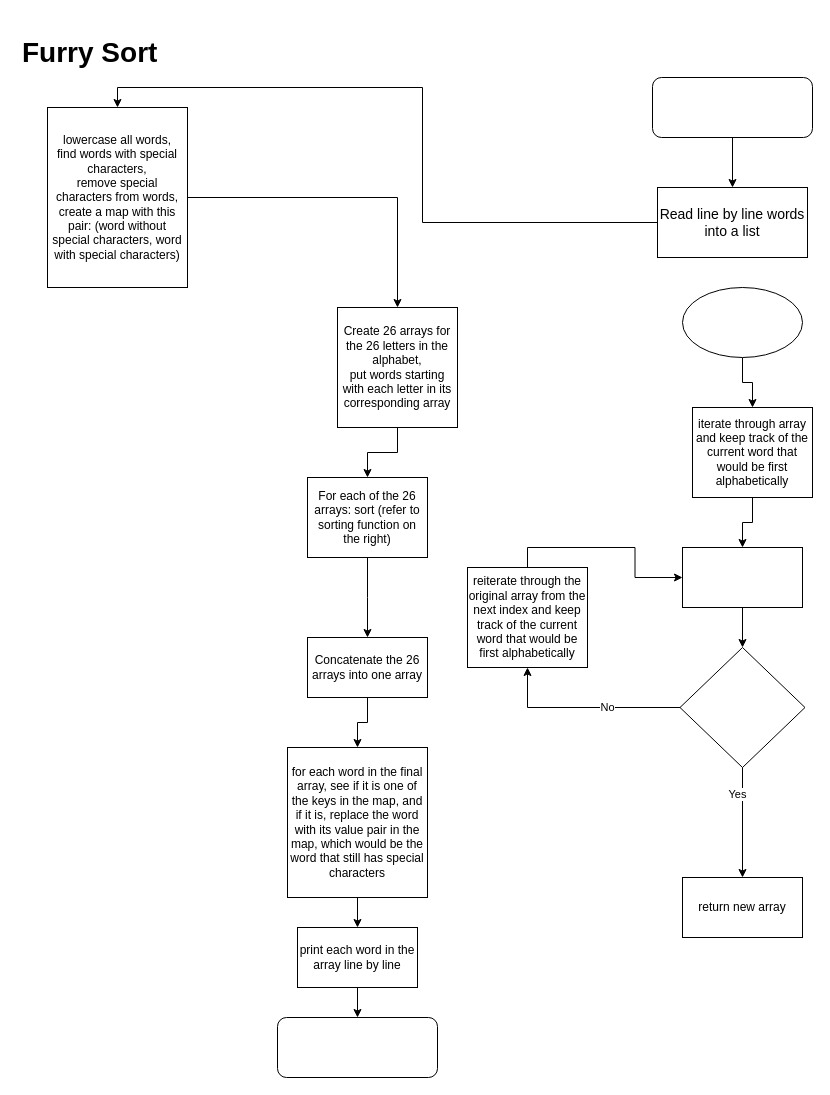
Image size: 830x1095. Some labels were removed from this diagram. Here are the shapes that lost their labels. From the top down, the box of each, then its label:
(652, 76, 812, 138): STDIN
(682, 286, 802, 358): sort
(682, 546, 802, 608): append that word to a new array
(679, 646, 805, 768): Is the new array the size of the original array?
(276, 1016, 438, 1078): STDOUT
